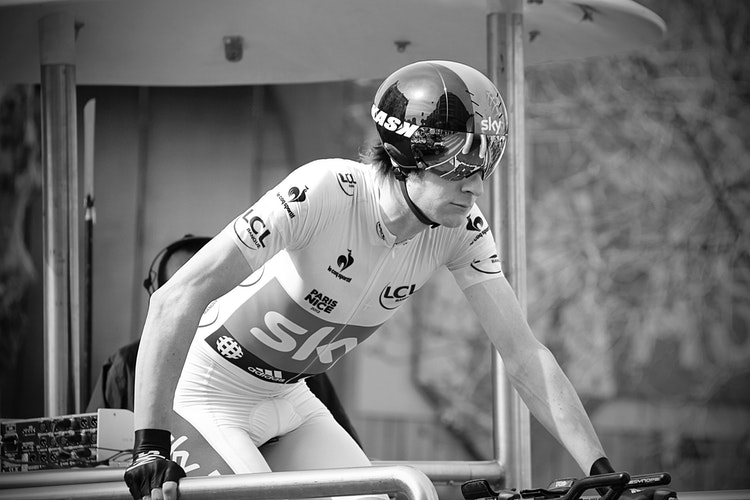helmet: (362, 58, 517, 182)
